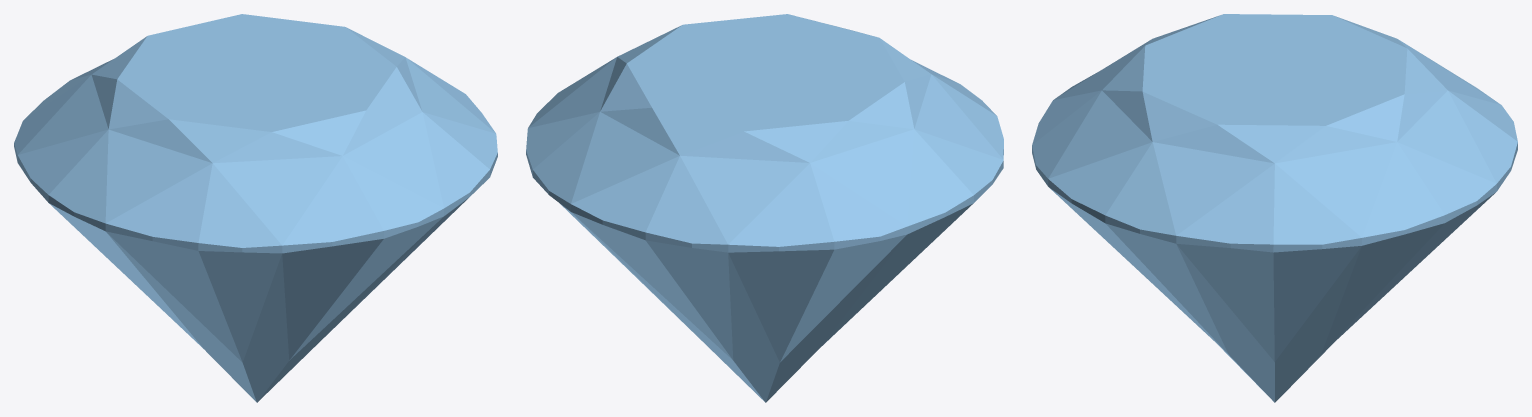
Rendered from diaModel.fbx.
3 renders of one model, left to right at view 1: azimuth 30°, elevation 25°; view 2: azimuth 150°, elevation 25°; view 3: azimuth 270°, elevation 25°, orthographic.
Visible parts, largest first — view 1: 钻石; view 2: 钻石; view 3: 钻石.
Boxes of the visible parts, x1,y1,x2,y2 form: 钻石: (14,14,497,402); 钻石: (526,14,1003,402); 钻石: (1032,14,1517,402).
Bounding box in the file's own units: 90.63 × 68.62 × 90.73.
